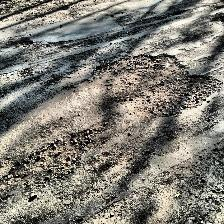pothole: (86, 52, 222, 118), (0, 128, 102, 188)
